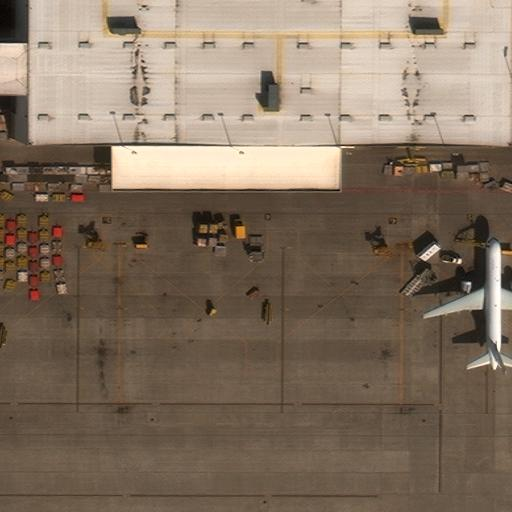Large Civil Transport: (423, 234, 511, 370)
